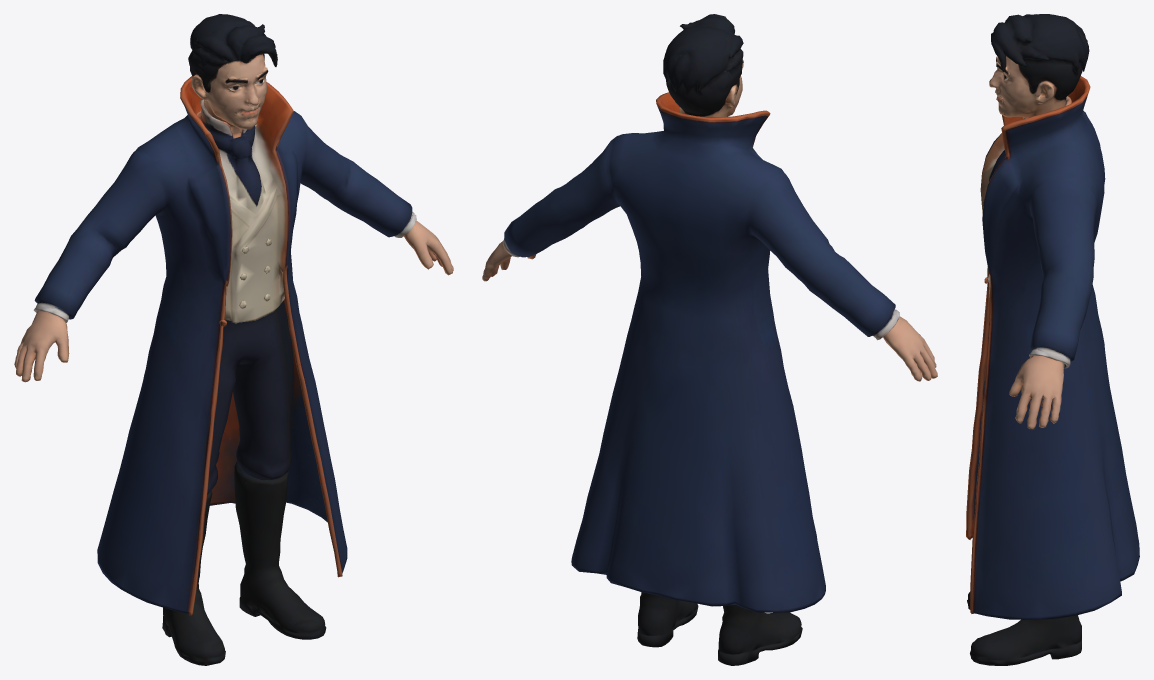
Rendered from king-photorig-mesh.glb.
3 views of the same model, side by side, from view 1: azimuth 30°, elevation 25°; view 2: azimuth 150°, elevation 25°; view 3: azimuth 270°, elevation 25° (orthographic).
Parts seen in each view (by area): view 1: tripo_node_e21bfd4e-90a9-469b-b247-c3e7c3ae422a; view 2: tripo_node_e21bfd4e-90a9-469b-b247-c3e7c3ae422a; view 3: tripo_node_e21bfd4e-90a9-469b-b247-c3e7c3ae422a.
Part boxes in pixels (bbox=[...]): tripo_node_e21bfd4e-90a9-469b-b247-c3e7c3ae422a: bbox=[14, 14, 453, 665]; tripo_node_e21bfd4e-90a9-469b-b247-c3e7c3ae422a: bbox=[482, 14, 937, 665]; tripo_node_e21bfd4e-90a9-469b-b247-c3e7c3ae422a: bbox=[966, 14, 1139, 665].
Bounding box in the file's own units: 1.39 × 1.85 × 0.4741.
1 material, 1 textured.
